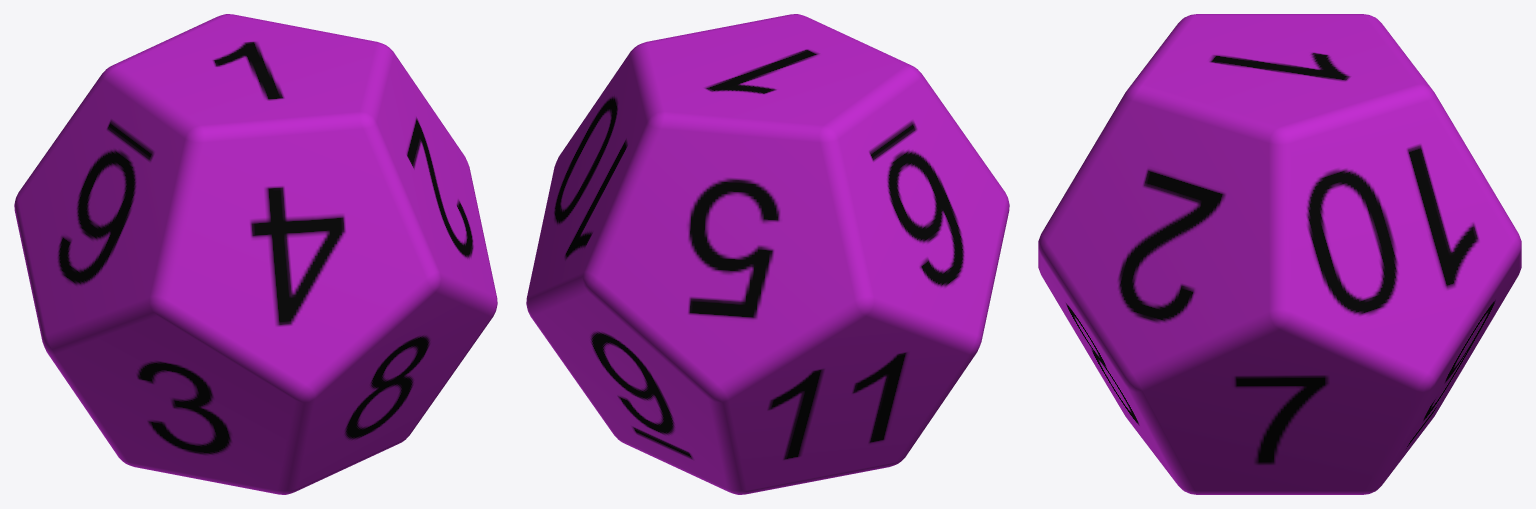
The picture shows the model from 3 angles, left to right: view 1: azimuth 30°, elevation 25°; view 2: azimuth 150°, elevation 25°; view 3: azimuth 270°, elevation 25°; orthographic projection. The views are drawn at different scales.
Parts seen in each view (by area): view 1: Object_2; view 2: Object_2; view 3: Object_2.
Part boxes in pixels (x1,y1,x2,y2): Object_2: (14,14,497,494); Object_2: (526,14,1009,494); Object_2: (1038,14,1521,494).
Size of the model in its own units: 2.96 by 2.45 by 2.82.
Materials: 1 (1 with a texture image).
